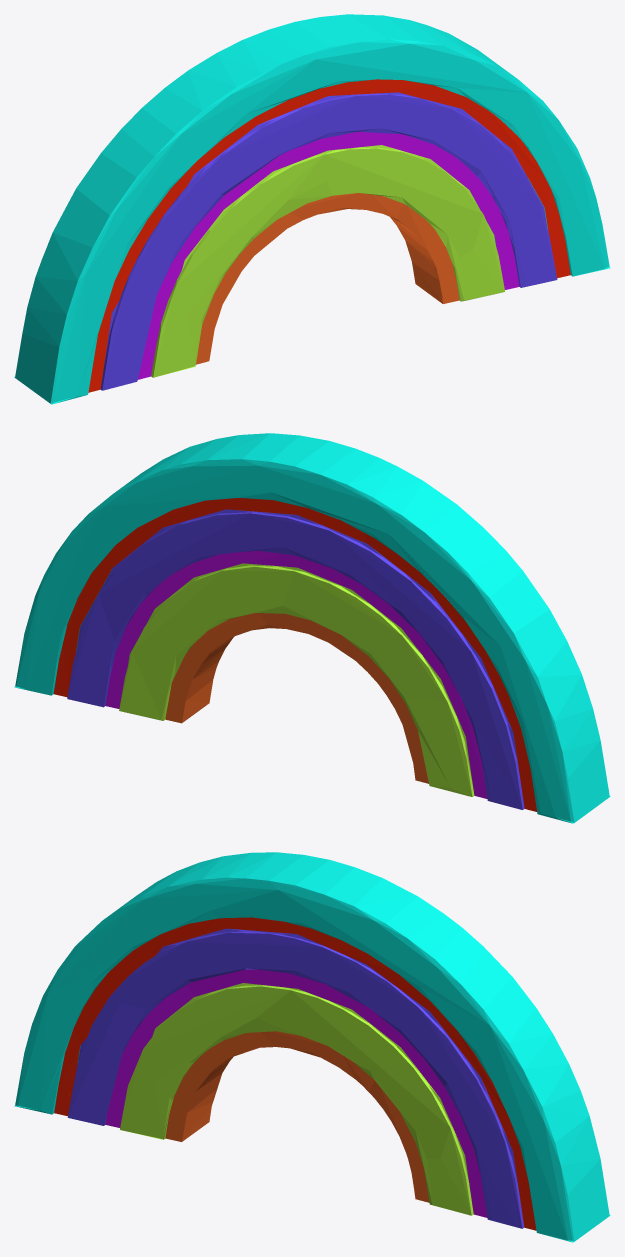
The model's file is rainbow.fbx.
3 views of the same model, one above another, from view 1: azimuth 30°, elevation 25°; view 2: azimuth 150°, elevation 25°; view 3: azimuth 330°, elevation 25° (orthographic).
Parts seen in each view (by area): view 1: museoDelNino_03:rainbow_copy1_rainbow_polyester_shd_0; view 2: museoDelNino_03:rainbow_copy1_rainbow_polyester_shd_0; view 3: museoDelNino_03:rainbow_copy1_rainbow_polyester_shd_0.
Boxes of the visible parts, left/top/right/bottom form: museoDelNino_03:rainbow_copy1_rainbow_polyester_shd_0: left=14, top=14, right=610, bottom=404; museoDelNino_03:rainbow_copy1_rainbow_polyester_shd_0: left=14, top=433, right=610, bottom=823; museoDelNino_03:rainbow_copy1_rainbow_polyester_shd_0: left=14, top=852, right=610, bottom=1242.
Size of the model in its own units: 10.25 by 43.38 by 88.16.
